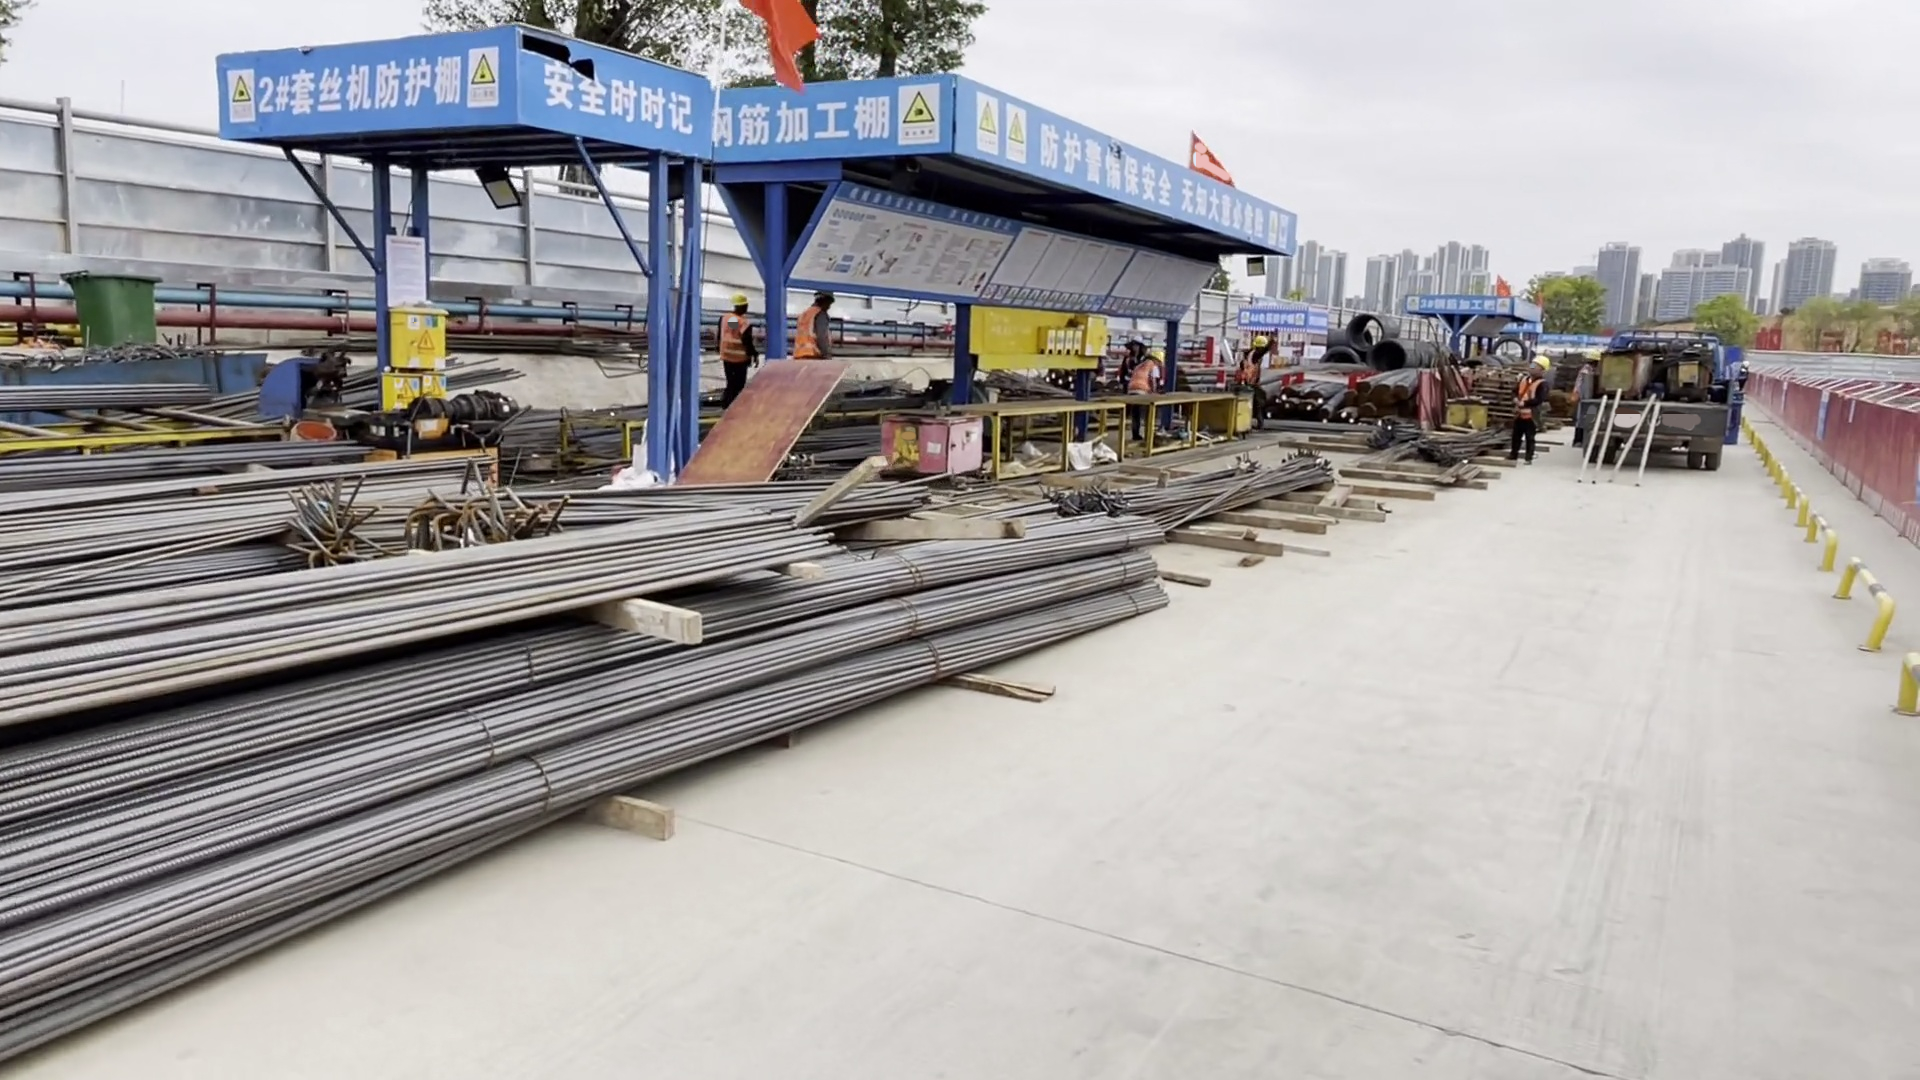board: (682, 362, 857, 484)
ebox: (375, 303, 455, 412), (1038, 313, 1110, 359), (1675, 360, 1700, 384)
fence: (1, 145, 638, 281), (1805, 401, 1920, 519)
helmet: (812, 288, 835, 300), (1532, 354, 1549, 370), (1150, 349, 1167, 362), (1131, 333, 1146, 345), (734, 294, 748, 306), (1587, 350, 1600, 360), (1255, 335, 1267, 346), (1741, 359, 1750, 369)
hopper: (1, 344, 254, 393)
person: (1507, 353, 1551, 466), (794, 277, 842, 356), (718, 295, 754, 397), (1570, 343, 1601, 463), (1127, 349, 1166, 436), (1243, 333, 1272, 412), (1123, 332, 1145, 357), (1737, 357, 1752, 389)
rebar: (1, 501, 1145, 1024), (1115, 461, 1349, 536)
slogan: (977, 105, 1296, 249), (218, 45, 508, 124), (731, 93, 949, 154), (535, 63, 694, 141), (1415, 293, 1510, 315), (1238, 307, 1307, 326)
vest: (797, 307, 830, 353), (1516, 379, 1544, 423), (722, 316, 749, 361), (1133, 363, 1161, 396), (1244, 353, 1267, 386), (1573, 363, 1593, 399), (1739, 371, 1748, 382)
